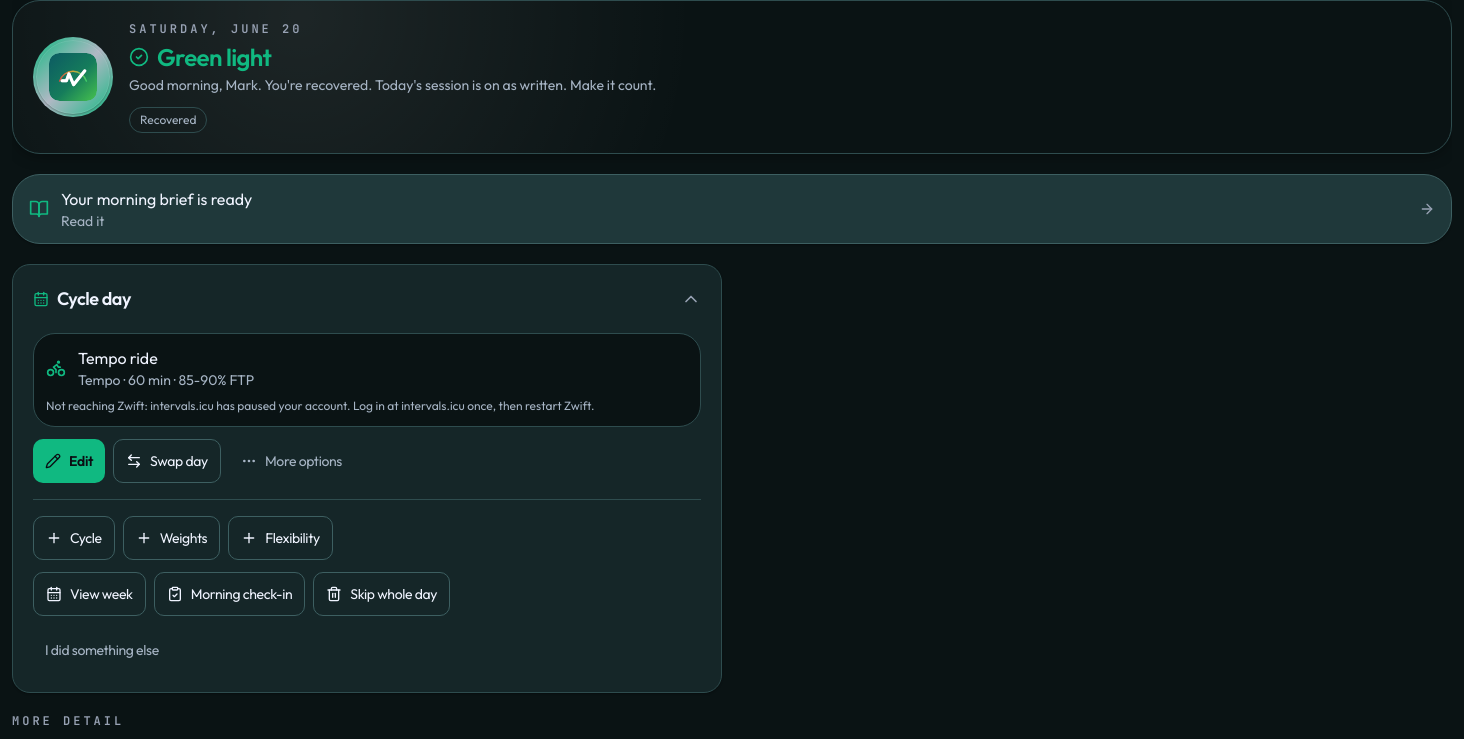
Test: DashboardPage › Batch 326 — the Today card says when rides are not reaching Zwift › does not say a skip removes it from Zwift while it is not there
// Batch 54: Skip lives behind the "More options" overflow menu.
Step 1. Click the button "More options" → click(291, 461), box [229,439,354,483]
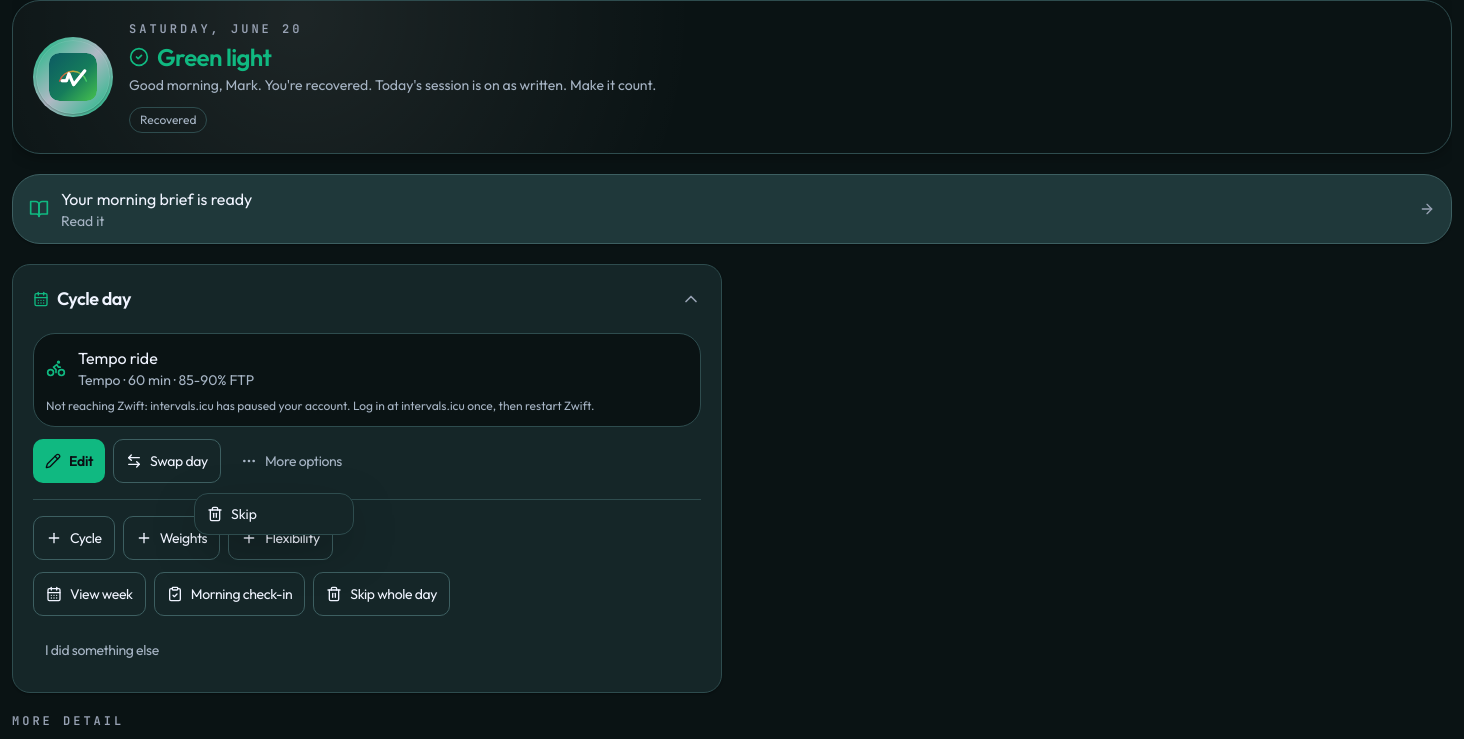
Step 2. Click the menu item "Skip" → click(232, 514), box [207,505,257,523]
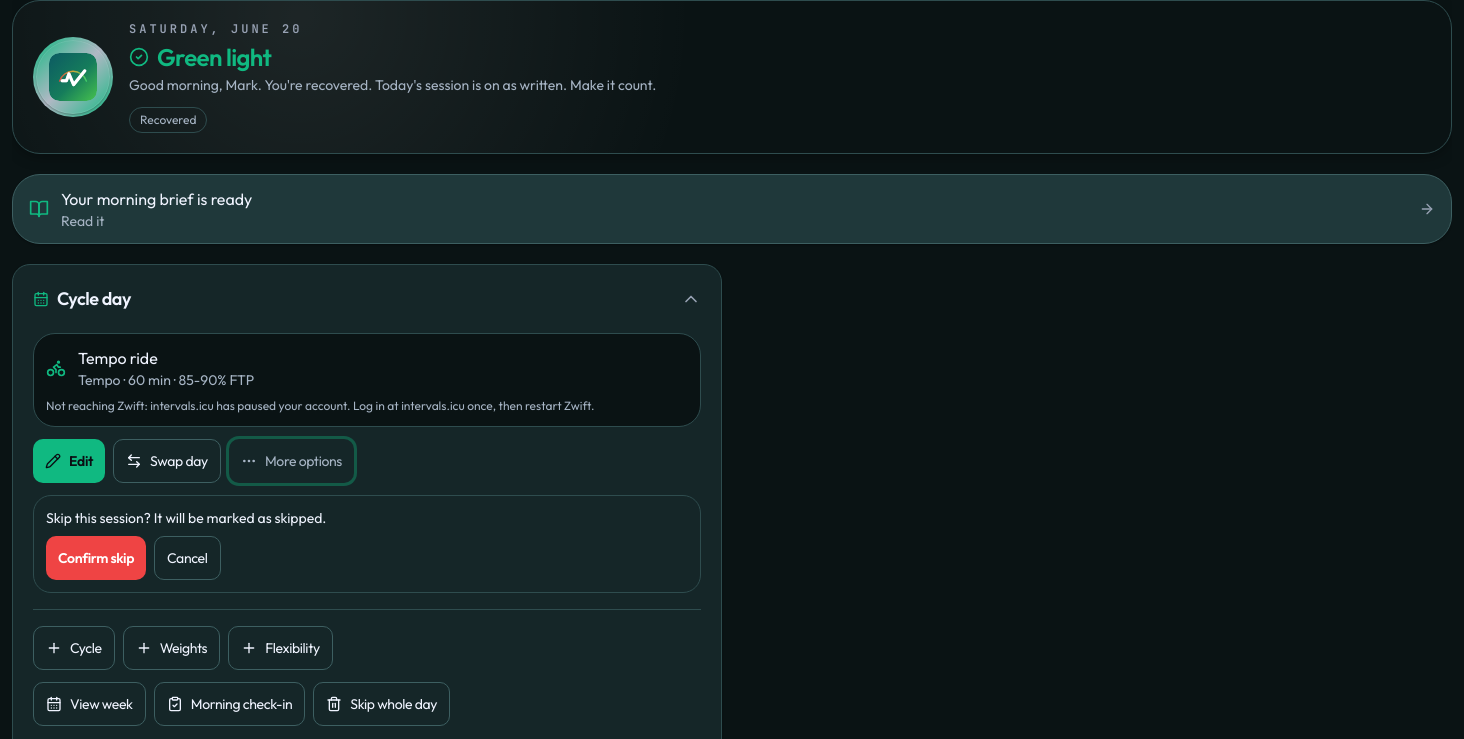
Check: the text "Skip this session? It will be marked as skipped." is shown, box [46,509,326,527]
